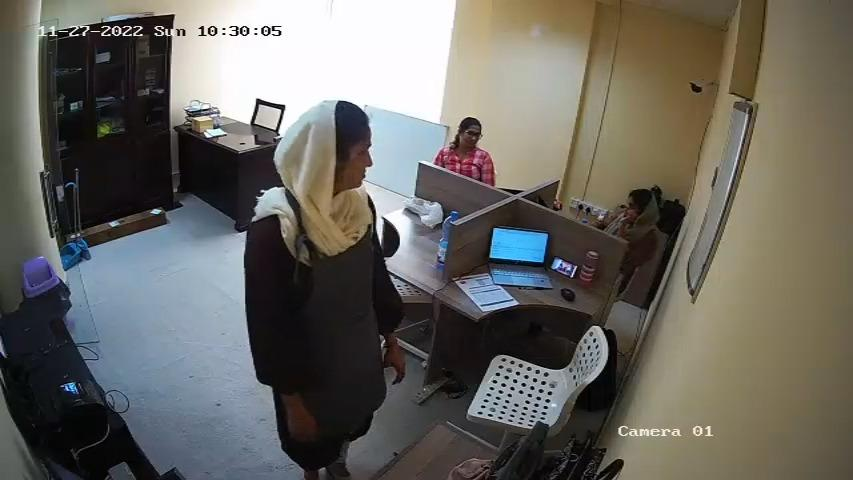apron: (285, 199, 381, 377)
